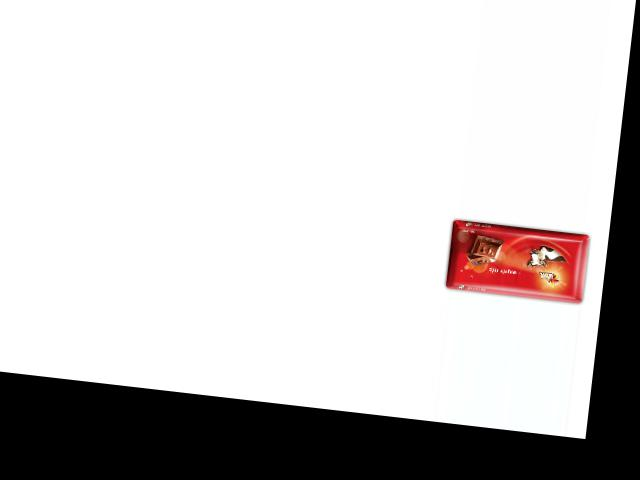chocolate: (443, 214, 598, 305)
